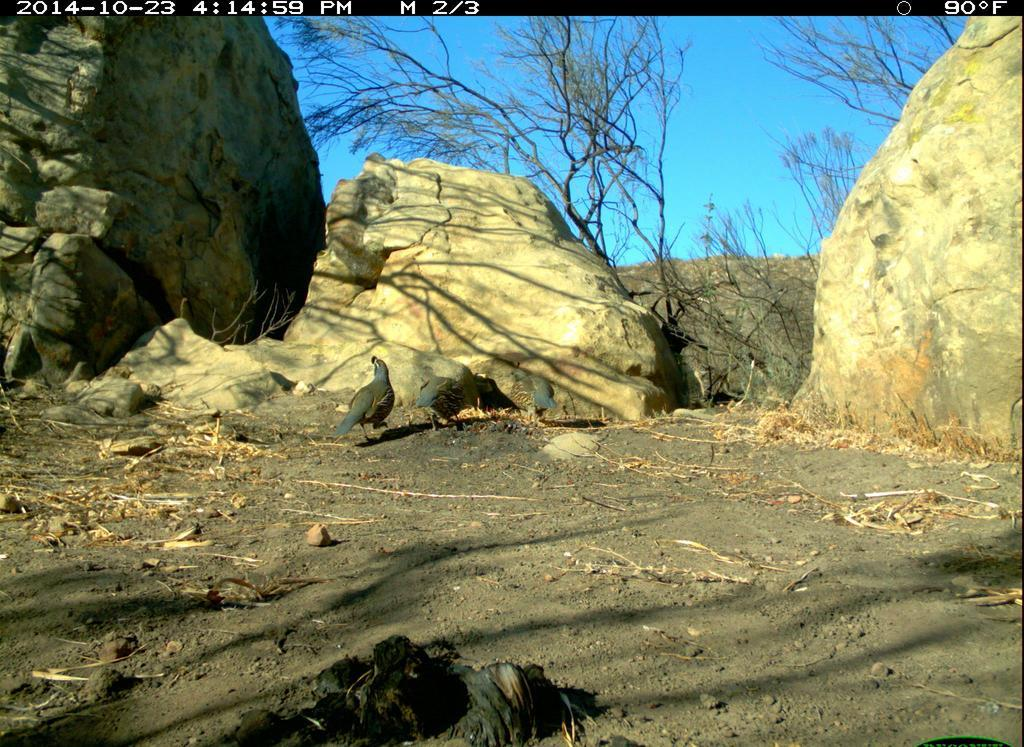bird: (332, 353, 396, 450), (414, 354, 487, 437), (504, 363, 564, 429)
